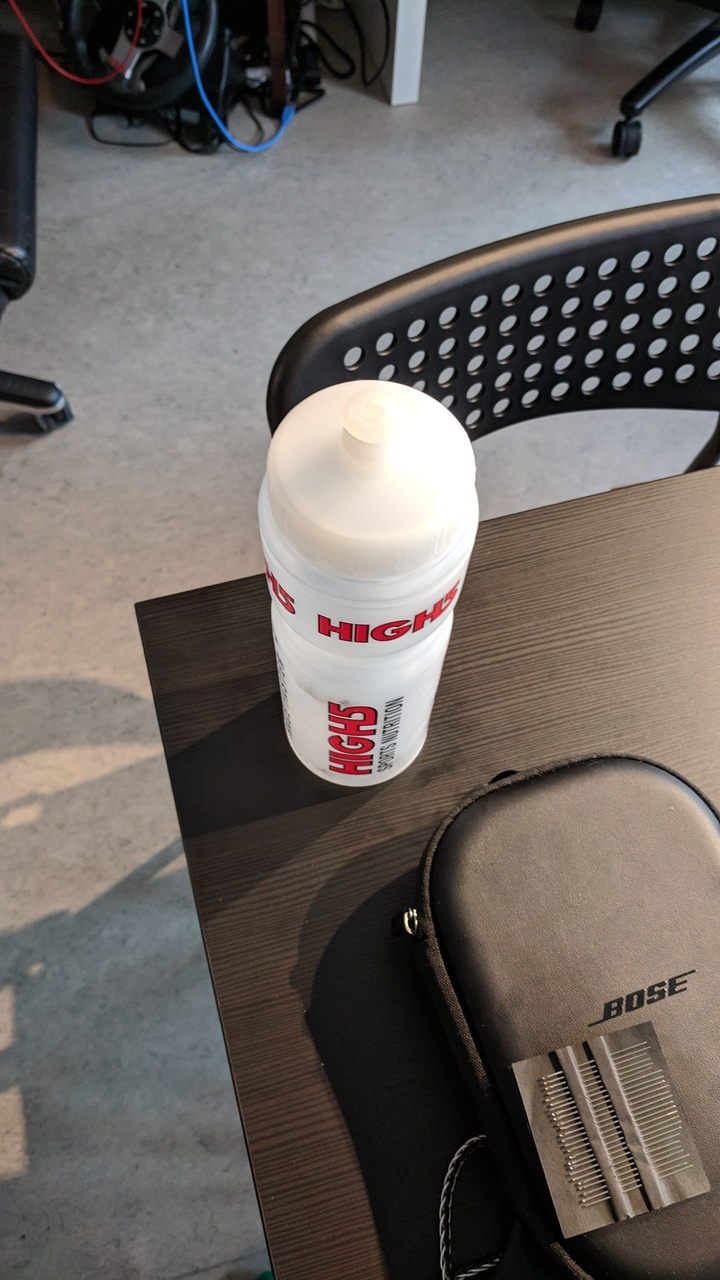high five bottle: (249, 371, 484, 813)
